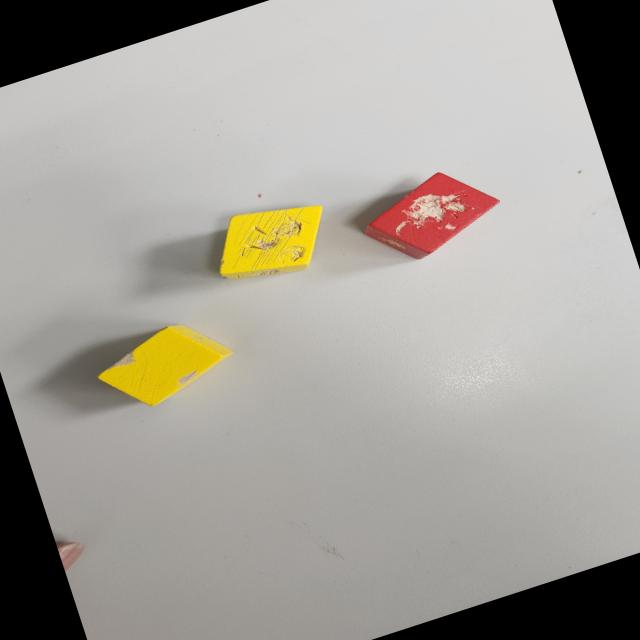broken: (353, 156, 508, 273), (88, 310, 242, 420), (202, 188, 342, 296)
